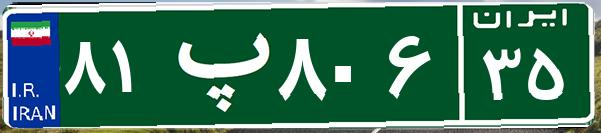0: (330, 28, 385, 110)
1: (110, 28, 158, 105)
3: (475, 38, 525, 113)
5: (525, 38, 570, 115)
6: (385, 28, 445, 110)
8: (273, 28, 330, 110), (57, 26, 110, 107)
پ: (158, 15, 273, 115)
